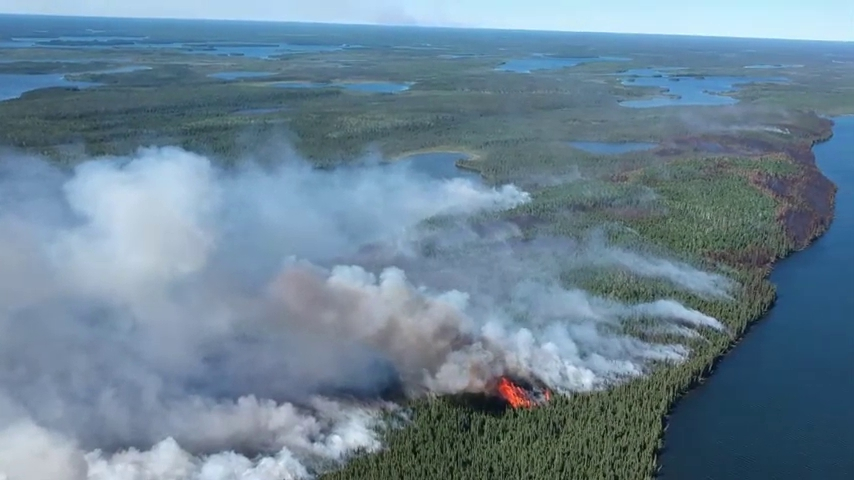forest_fire: (497, 375, 550, 408)
